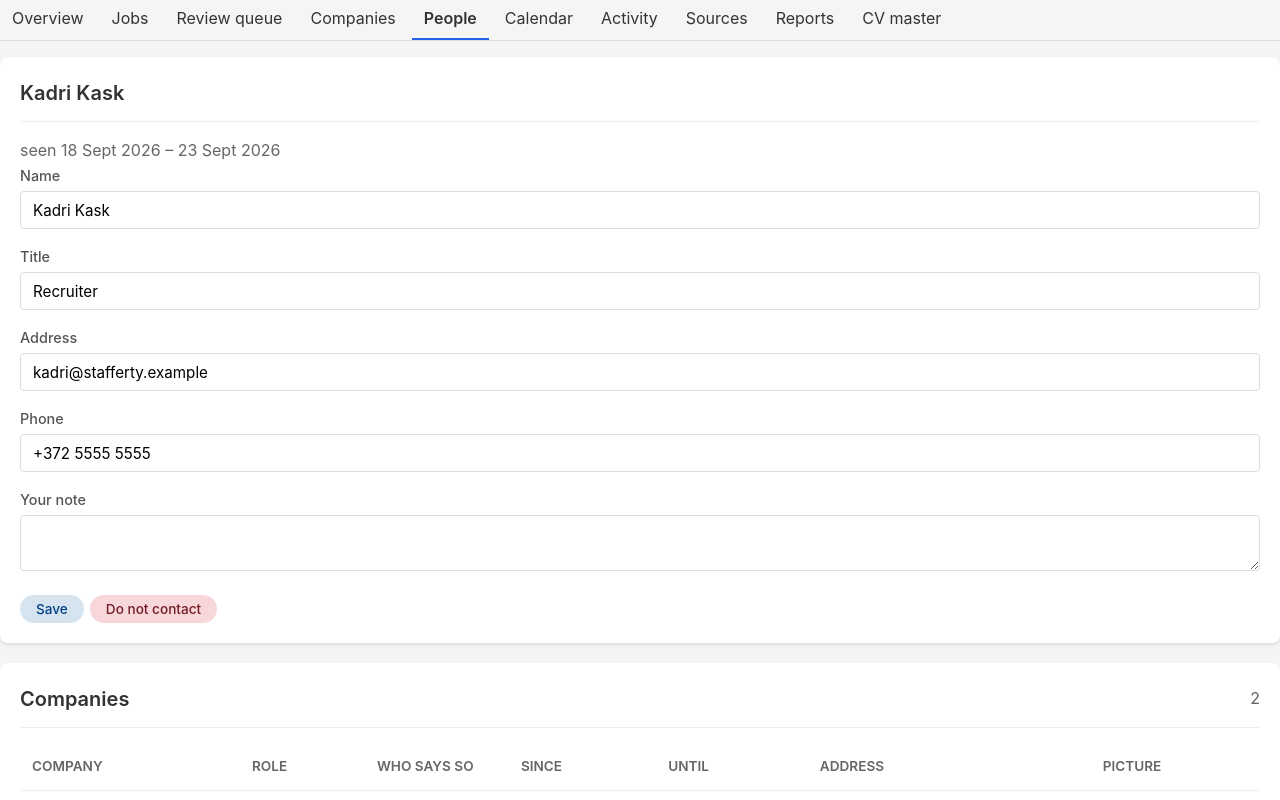
Scenario: MasiPersonDetail › marks them not to be contacted, and back
Click the button "Do not contact" at (154,609), box x1=90 y1=595 x2=217 y2=623
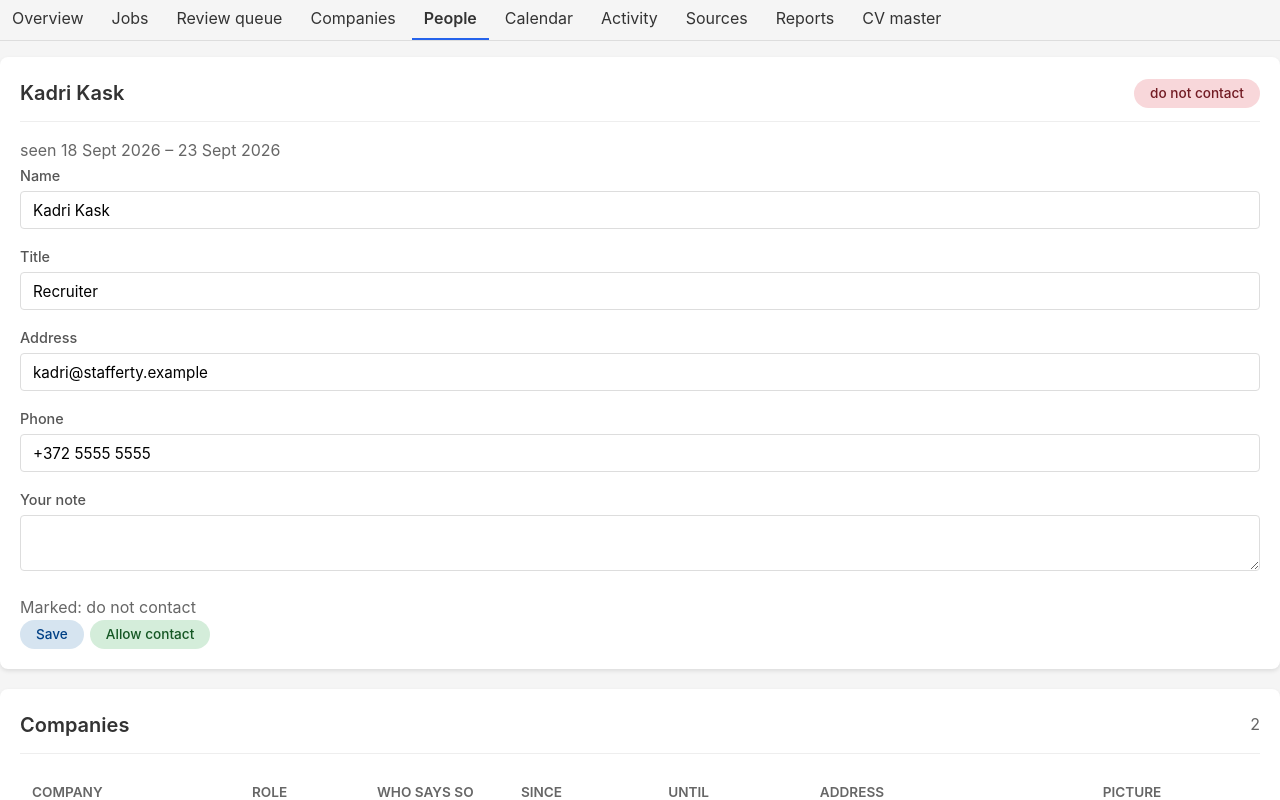
Expected: the button "Allow contact" is shown, x1=90 y1=620 x2=210 y2=649
Expected: the text "do not contact" is shown, x1=1134 y1=79 x2=1260 y2=108
